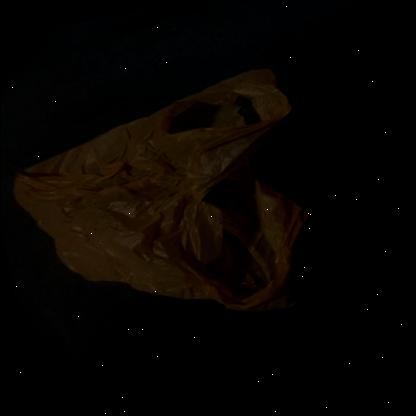Others: (10, 69, 314, 307)
